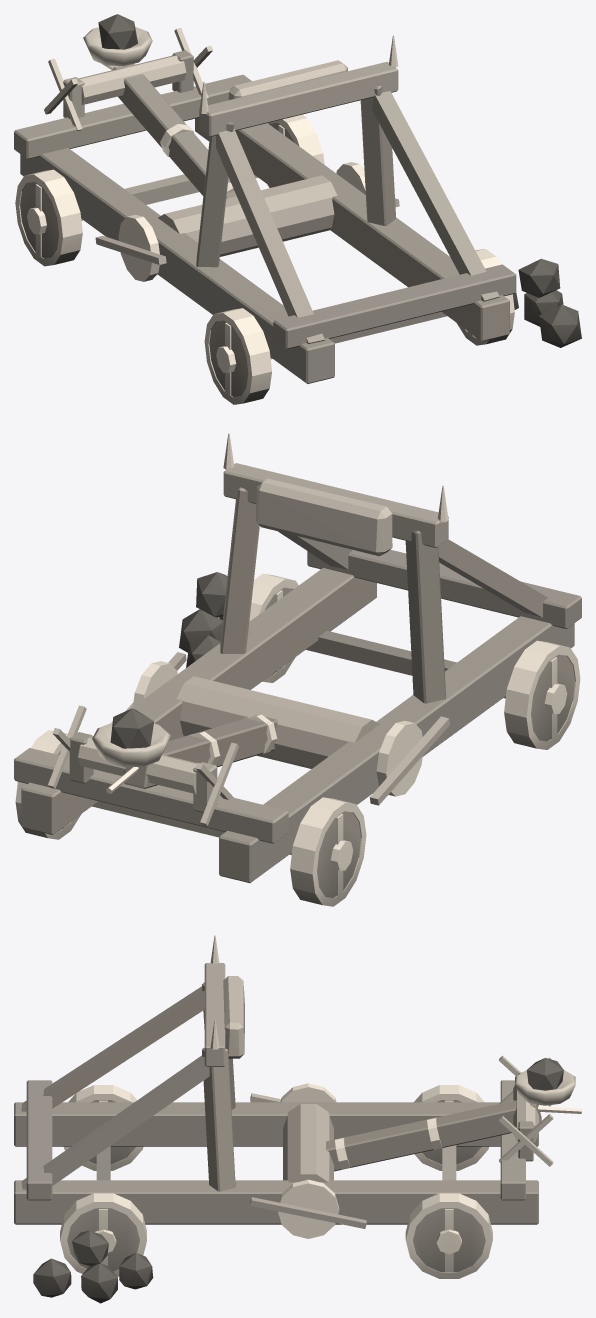
Rendered from SM_VKI_Prop_Siege_Catapult.fbx.
3 renders of one model, top to bottom at view 1: azimuth 30°, elevation 25°; view 2: azimuth 150°, elevation 25°; view 3: azimuth 270°, elevation 25°, orthographic. The views are drawn at different scales.
Parts seen in each view (by area): view 1: SM_VKI_Prop_Siege_Catapult.001; view 2: SM_VKI_Prop_Siege_Catapult.001; view 3: SM_VKI_Prop_Siege_Catapult.001.
Part boxes in pixels (x1,y1,x2,y2): SM_VKI_Prop_Siege_Catapult.001: (14, 14, 581, 404); SM_VKI_Prop_Siege_Catapult.001: (14, 433, 581, 906); SM_VKI_Prop_Siege_Catapult.001: (14, 935, 581, 1303).
Bounding box in the file's own units: 2.77 × 2.11 × 4.44.
